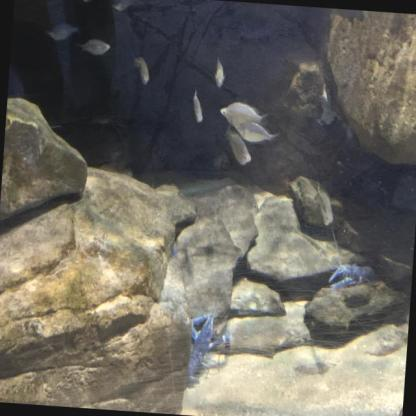fish: (218, 99, 269, 131), (220, 124, 253, 170), (233, 120, 282, 148), (312, 182, 335, 226), (45, 19, 80, 44), (129, 52, 152, 88), (76, 36, 112, 58), (189, 87, 206, 127), (212, 55, 228, 91), (109, 0, 129, 16)
